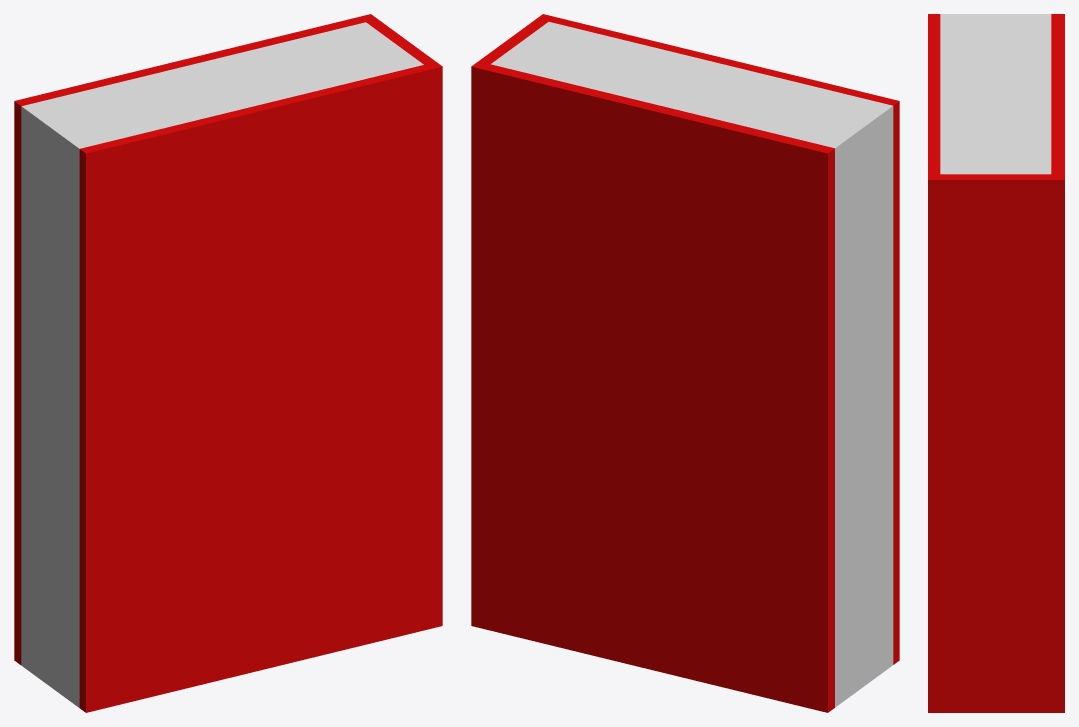
The model's file is Book.fbx.
3 views of the same model, side by side, from view 1: azimuth 30°, elevation 25°; view 2: azimuth 150°, elevation 25°; view 3: azimuth 270°, elevation 25° (orthographic). The views are drawn at different scales.
Visible parts, largest first — view 1: Book; view 2: Book; view 3: Book.
Boxes of the visible parts, left/top/right/bottom form: Book: left=14, top=14, right=442, bottom=712; Book: left=471, top=14, right=899, bottom=712; Book: left=928, top=14, right=1064, bottom=712.
Size of the model in its own units: 21.12 by 31.65 by 7.37.
